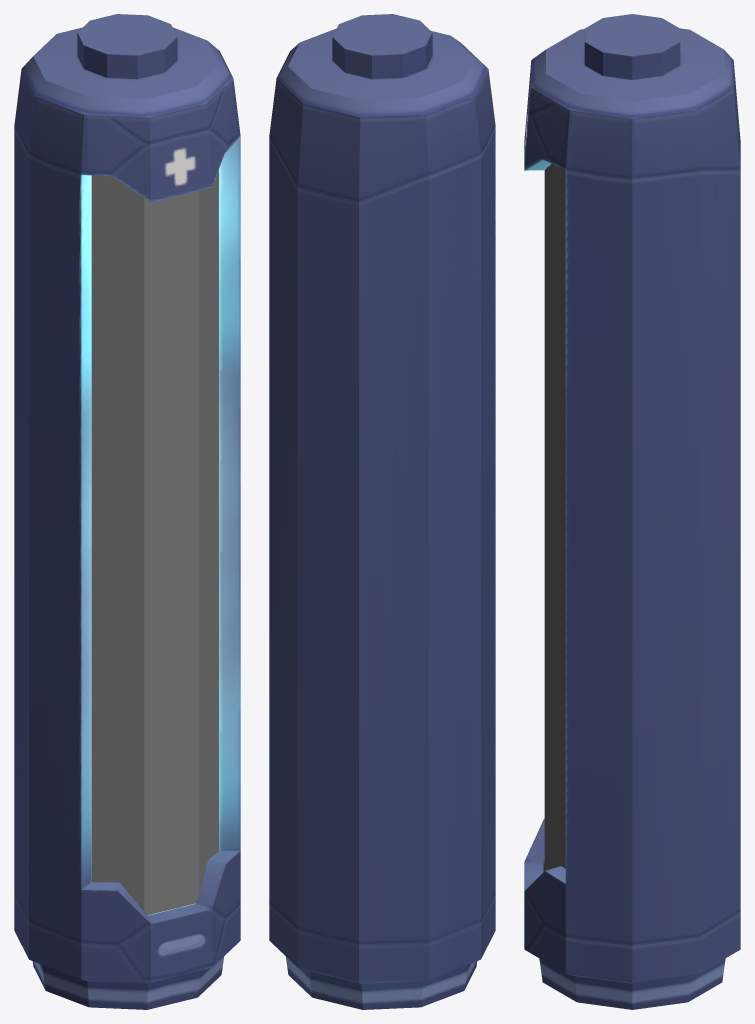
Rendered from EnergyCell.fbx.
3 views of the same model, side by side, from view 1: azimuth 30°, elevation 25°; view 2: azimuth 150°, elevation 25°; view 3: azimuth 270°, elevation 25° (orthographic).
Parts seen in each view (by area): view 1: energy cell; view 2: energy cell; view 3: energy cell.
Part boxes in pixels (x1,y1,x2,y2): energy cell: (14, 14, 240, 1009); energy cell: (269, 14, 495, 1009); energy cell: (524, 14, 740, 1009).
Size of the model in its own units: 12.58 by 57.1 by 11.97.
